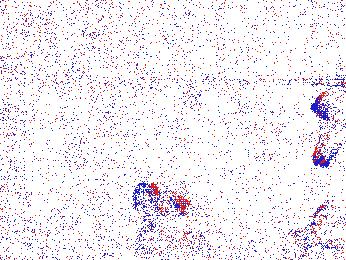flame jellyfish: (311, 84, 346, 168), (283, 203, 346, 249), (133, 181, 189, 224)
